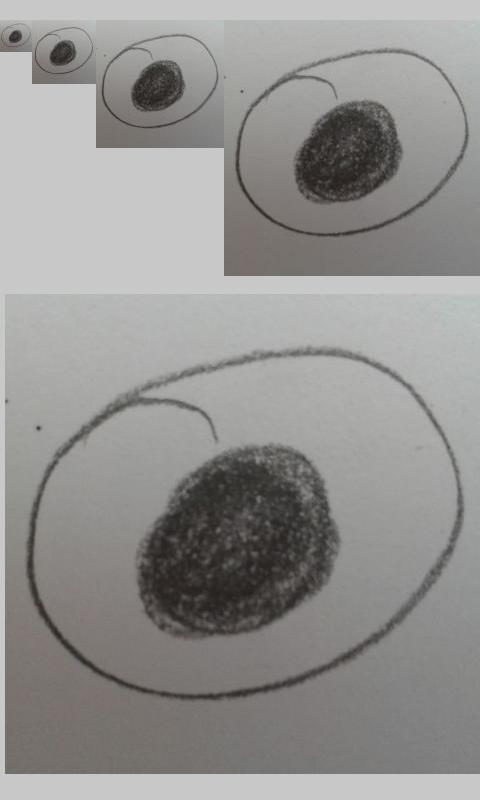radio_button: (24, 345, 464, 705), (233, 47, 470, 237), (101, 33, 219, 129), (34, 26, 94, 75), (1, 22, 32, 48)
